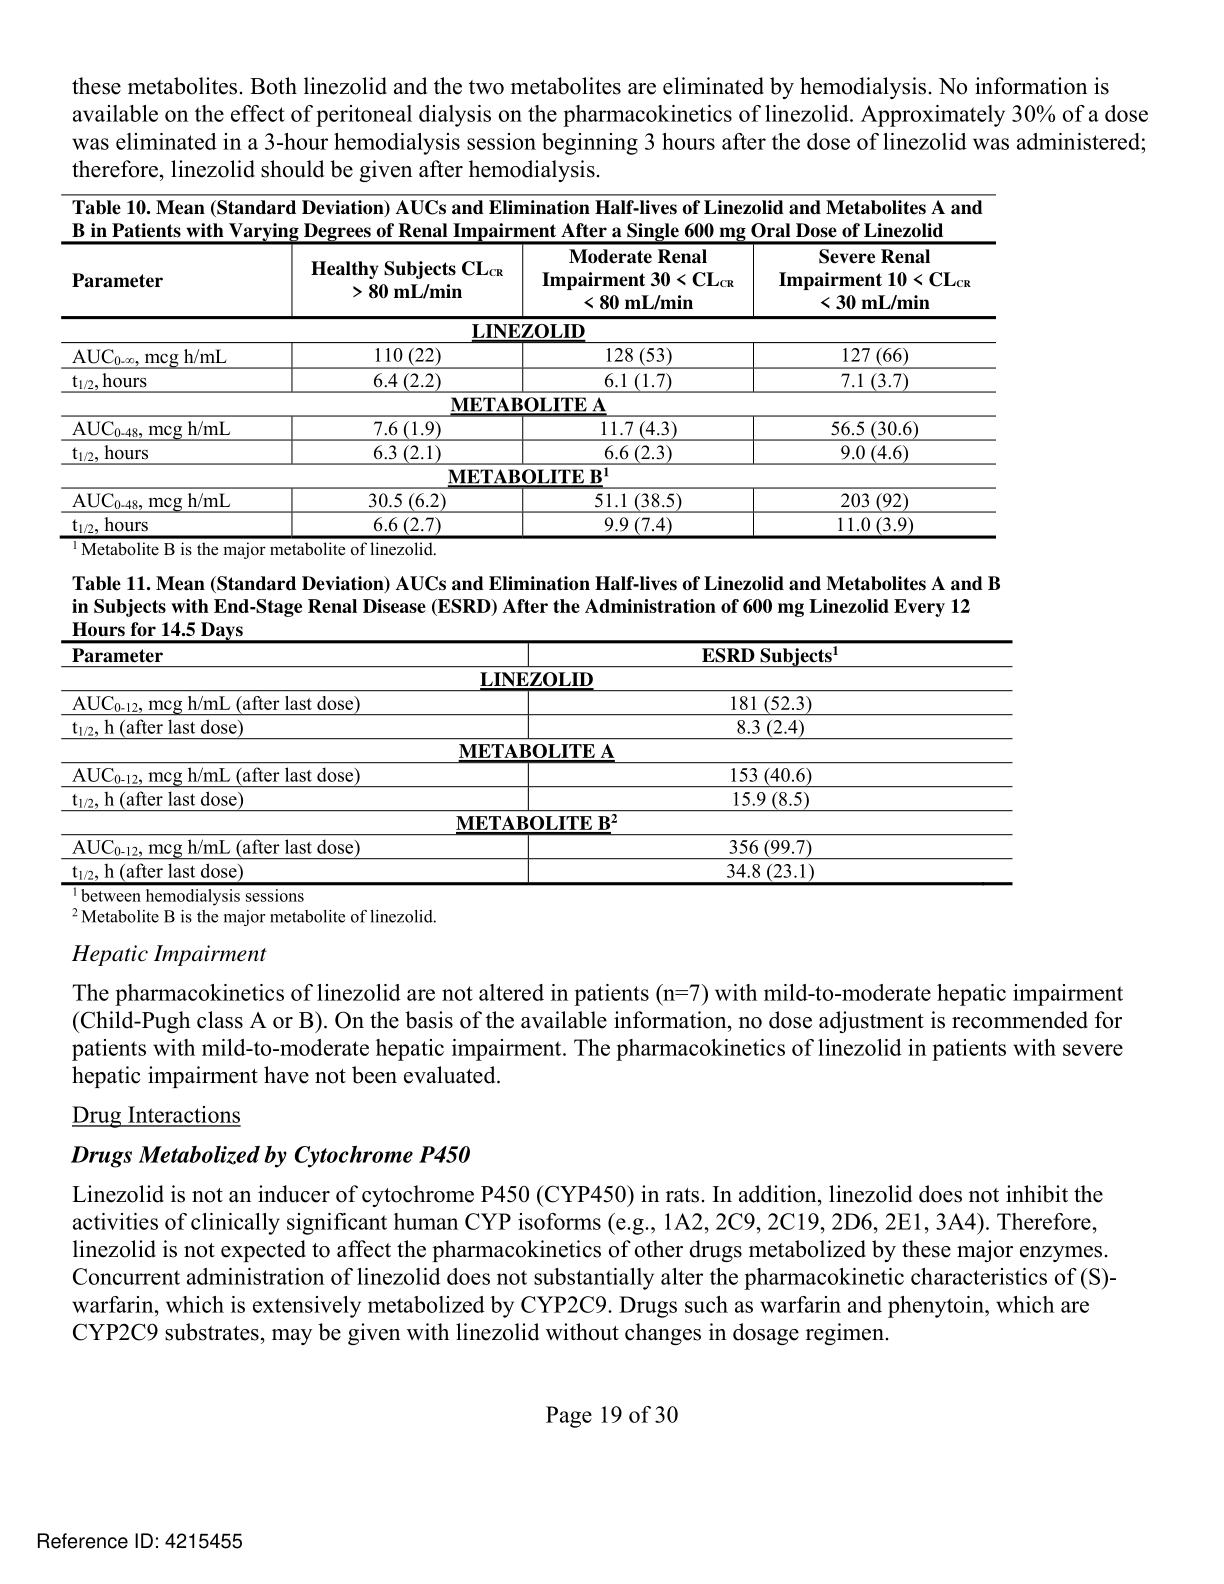partial_lined_merged_cells: (58, 240, 1000, 540), (59, 639, 1014, 886)
